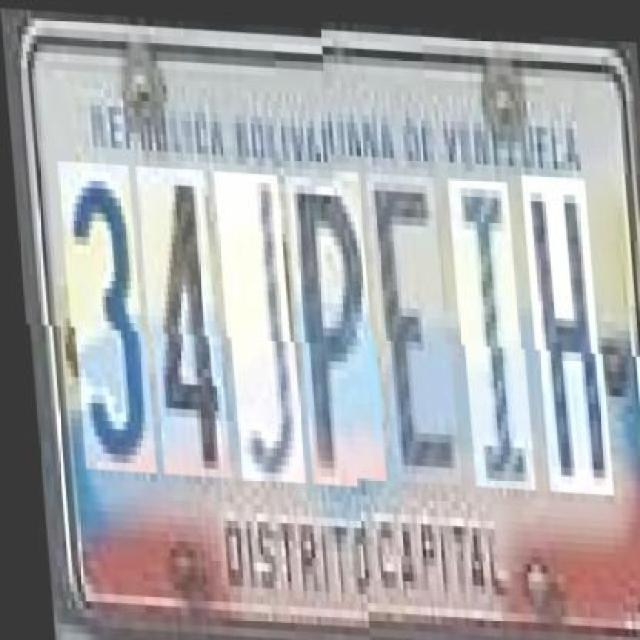3: (59, 160, 150, 472)
4: (136, 164, 224, 476)
e: (368, 177, 454, 488)
h: (522, 176, 607, 496)
i: (450, 180, 528, 492)
j: (215, 168, 298, 480)
p: (286, 172, 380, 483)
